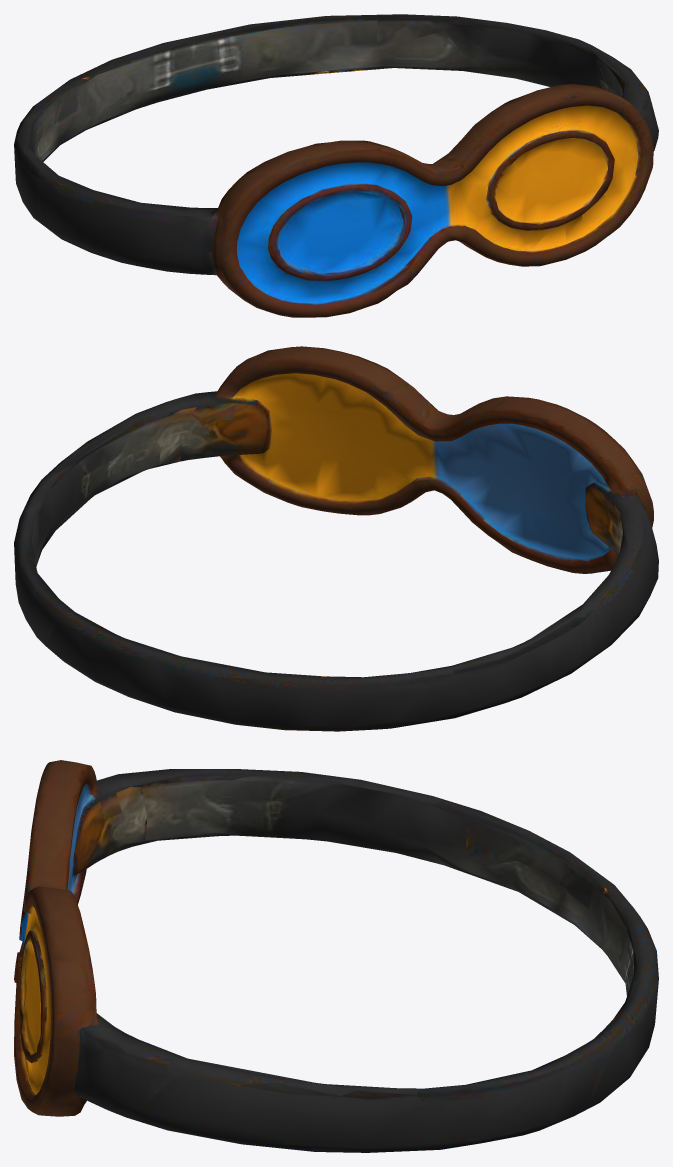
The model's file is wear-goggles.glb.
3 views of the same model, one above another, from view 1: azimuth 30°, elevation 25°; view 2: azimuth 150°, elevation 25°; view 3: azimuth 270°, elevation 25° (orthographic). The views are drawn at different scales.
Parts seen in each view (by area): view 1: wear-goggles; view 2: wear-goggles; view 3: wear-goggles.
Boxes of the visible parts, x1=… form: wear-goggles: x1=14, y1=14, x2=658, y2=317; wear-goggles: x1=14, y1=346, x2=658, y2=731; wear-goggles: x1=14, y1=760, x2=658, y2=1152.
Bounding box in the file's own units: 0.675 × 0.1862 × 0.5705.
Materials: 1 (1 with a texture image).
